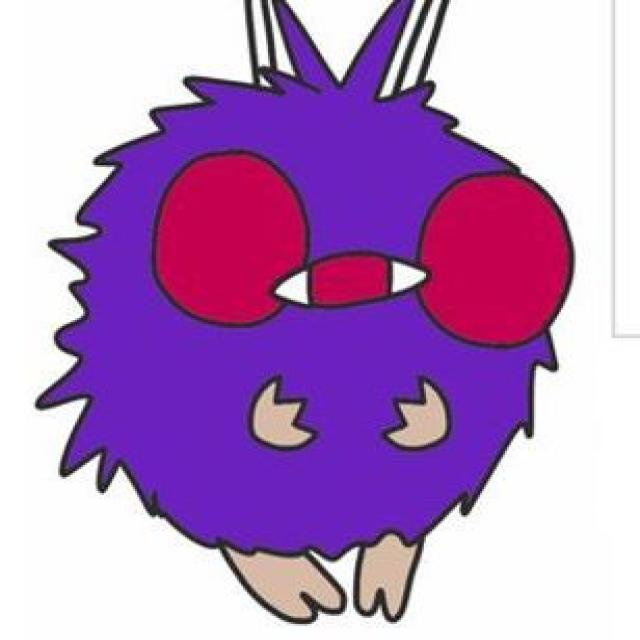Venonat: (62, 54, 573, 622)
